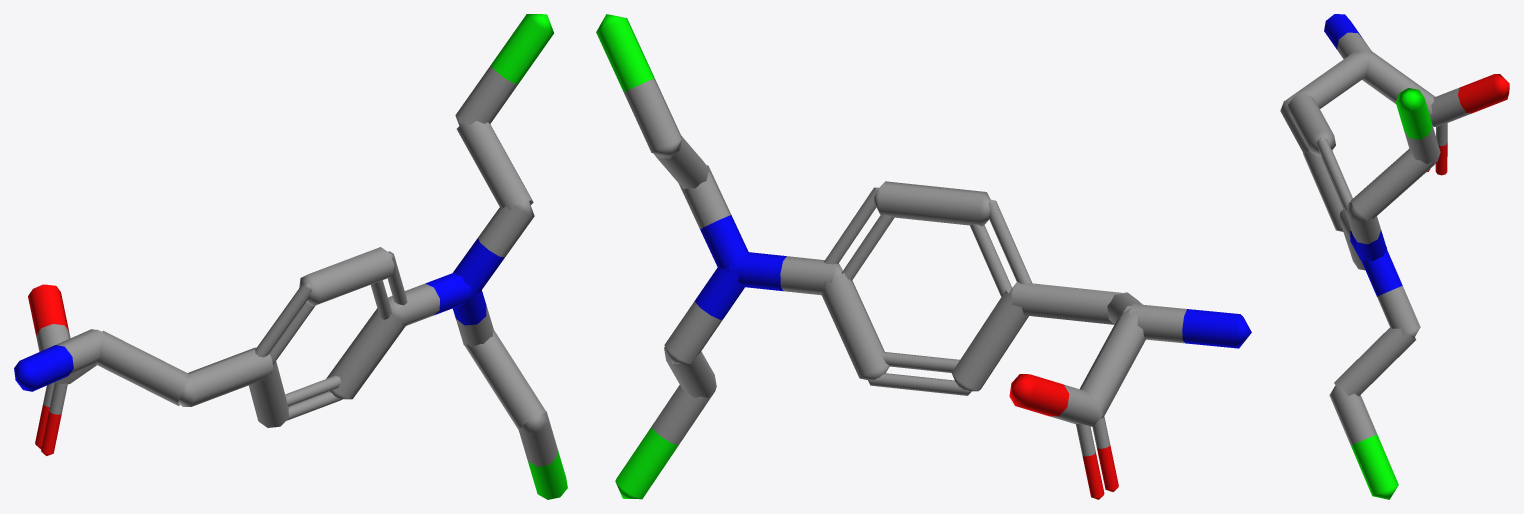
The model's file is melphalan.glb.
The picture shows the model from 3 angles, left to right: view 1: azimuth 30°, elevation 25°; view 2: azimuth 150°, elevation 25°; view 3: azimuth 270°, elevation 25°; orthographic projection. The views are drawn at different scales.
Parts seen in each view (by area): view 1: node-geom8; view 2: node-geom8; view 3: node-geom8.
Boxes of the visible parts, x1=… form: node-geom8: x1=14, y1=14, x2=567, y2=499; node-geom8: x1=596, y1=14, x2=1251, y2=499; node-geom8: x1=1280, y1=14, x2=1509, y2=499.
Size of the model in its own units: 9.93 by 7.69 by 3.93.
